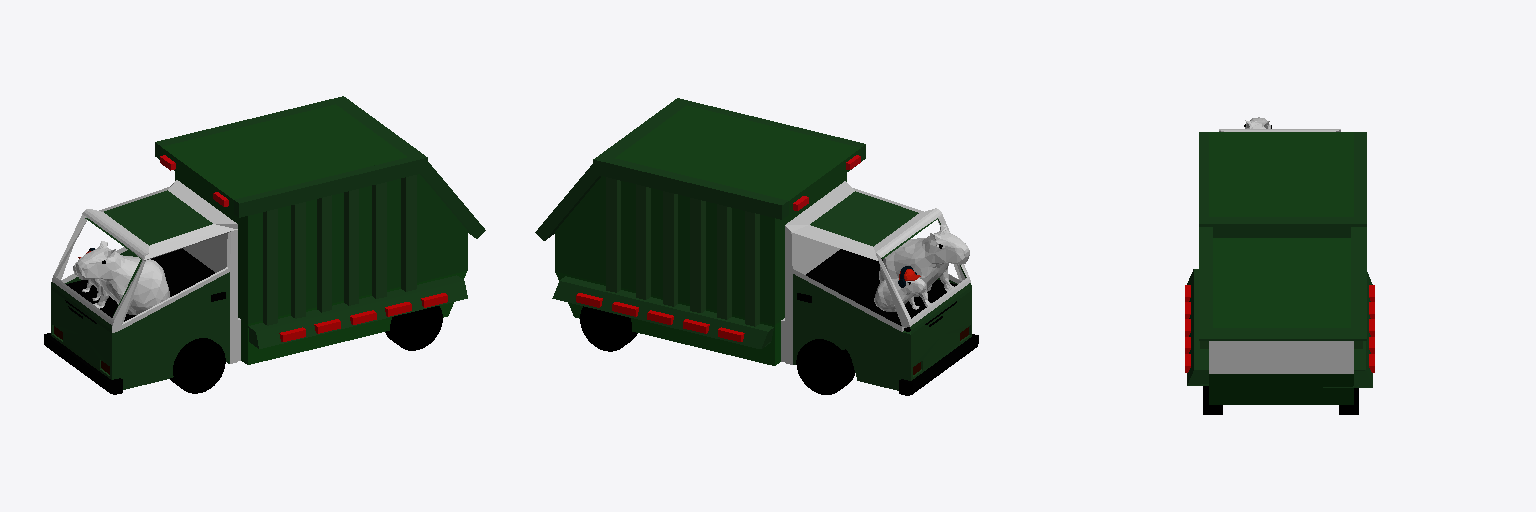
The model's file is uploads_files_3513732_truck_lowpoly_bautan_Sendiri_2.obj.
3 renders of one model, left to right at view 1: azimuth 30°, elevation 25°; view 2: azimuth 150°, elevation 25°; view 3: azimuth 270°, elevation 25°, orthographic.
Parts seen in each view (by area): view 1: truck_buri, truck_depan, Cube.004, Cube.007, decim_capy_printing, ban_depan, Cube.013, ban_buri, Cube.008, Cube.009, Cube.010, Cube.011 (+2 smaller); view 2: truck_buri, truck_depan, Cube.004, Cube.007, decim_capy_printing, ban_depan, Cube.010, ban_buri, Cube.011, Cube.009, Cube.013, Cube.008 (+3 smaller); view 3: truck_buri, Cube.019, Cube.004, Cube.007, ban_buri.
Part boxes in pixels (left/top/right/bottom): truck_buri: left=161, top=104, right=467, bottom=364; truck_depan: left=44, top=180, right=237, bottom=394; Cube.004: left=155, top=96, right=427, bottom=217; Cube.007: left=248, top=275, right=467, bottom=348; decim_capy_printing: left=75, top=241, right=169, bottom=315; ban_depan: left=170, top=338, right=225, bottom=393; Cube.013: left=401, top=175, right=416, bottom=291; ban_buri: left=385, top=306, right=442, bottom=350; Cube.008: left=263, top=209, right=277, bottom=325; Cube.009: left=291, top=202, right=305, bottom=318; Cube.010: left=317, top=195, right=331, bottom=312; Cube.011: left=344, top=189, right=358, bottom=305; truck_buri: left=555, top=105, right=860, bottom=365; truck_depan: left=785, top=181, right=978, bottom=395; Cube.004: left=593, top=98, right=865, bottom=219; Cube.007: left=552, top=276, right=773, bottom=348; decim_capy_printing: left=879, top=225, right=969, bottom=306; ban_depan: left=796, top=339, right=854, bottom=394; Cube.010: left=690, top=198, right=705, bottom=312; ban_buri: left=580, top=306, right=637, bottom=351; Cube.011: left=663, top=191, right=677, bottom=306; Cube.009: left=717, top=204, right=731, bottom=319; Cube.013: left=606, top=177, right=620, bottom=292; Cube.008: left=745, top=211, right=759, bottom=326; truck_buri: left=1209, top=132, right=1353, bottom=404; Cube.019: left=1199, top=227, right=1366, bottom=340; Cube.004: left=1199, top=132, right=1366, bottom=237; Cube.007: left=1187, top=269, right=1372, bottom=387; ban_buri: left=1203, top=386, right=1358, bottom=414.
Bounding box in the file's own units: 7.17 × 3.48 × 3.13.